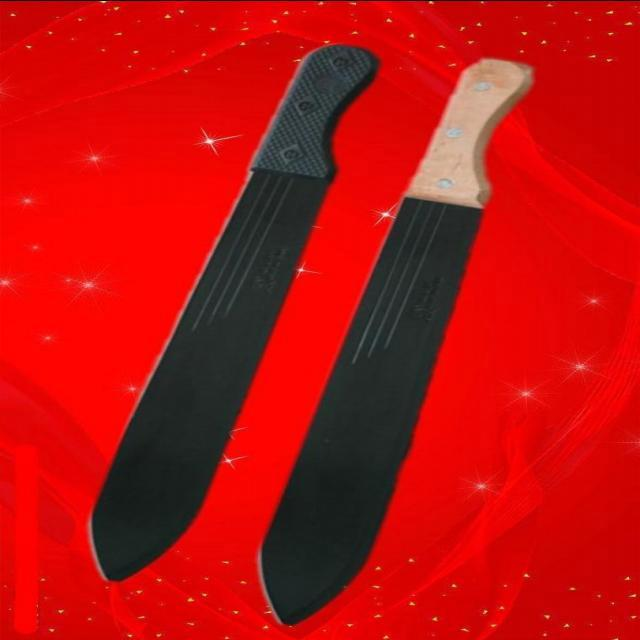long knife: (262, 61, 582, 640)
